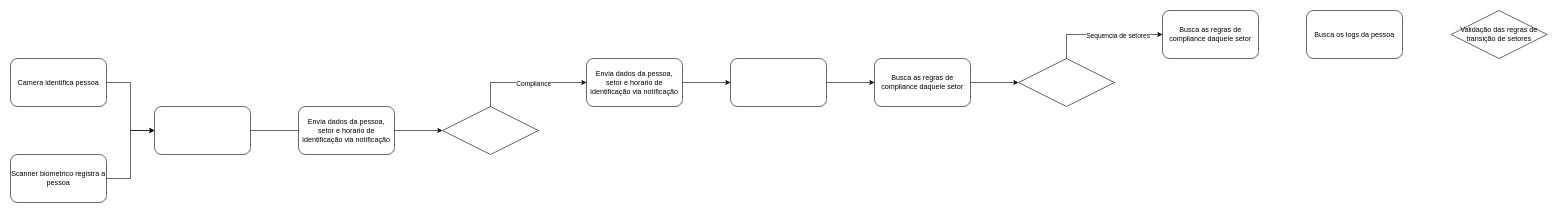
Some shapes in this 1558 by 213 pixel diagram are drawn without their labels. Here are the shapes that lost their labels. From the top down, the centre of each, then its label:
At (x=778, y=82): "Registra o log do compliance".
At (x=1066, y=82): "Regras de compliance".
At (x=202, y=130): "Identifica as features da camera".
At (x=490, y=130): "Features".
